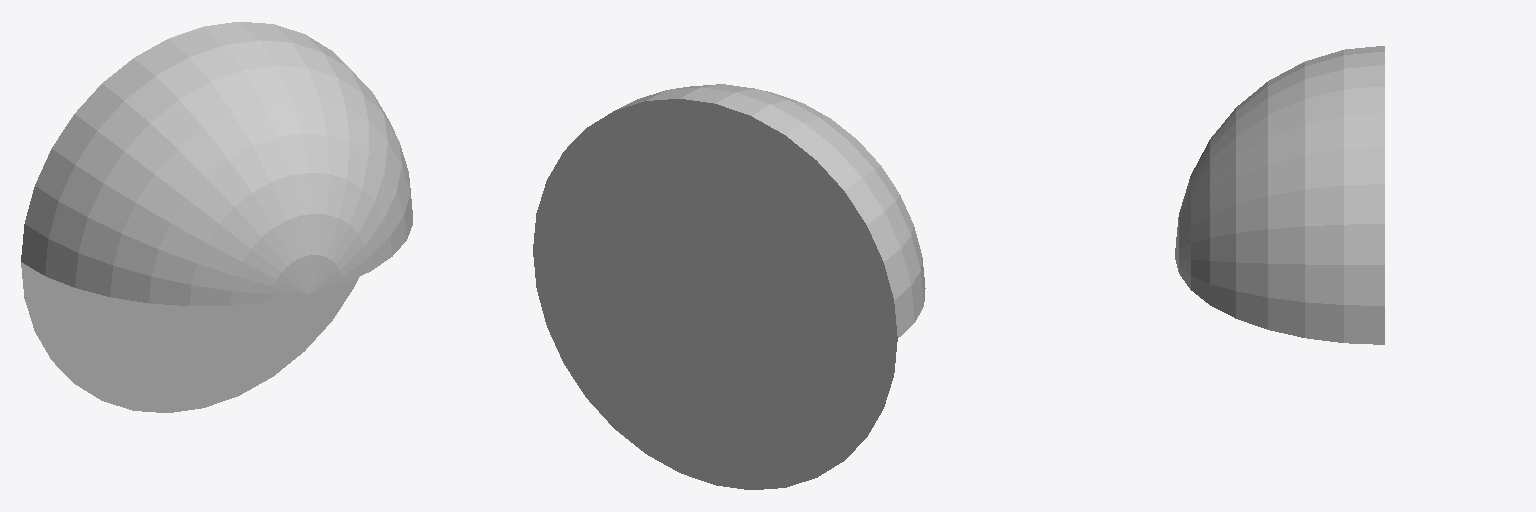
The model's file is Greenate Left Shoe.obj.
The picture shows the model from 3 angles: view 1: azimuth 30°, elevation 25°; view 2: azimuth 150°, elevation 25°; view 3: azimuth 270°, elevation 25°; orthographic projection.
Visible parts, largest first — view 1: Greenate_Character; view 2: Greenate_Character; view 3: Greenate_Character.
Part boxes in pixels (x1,y1,x2,y2): Greenate_Character: (21, 22, 412, 412); Greenate_Character: (533, 84, 925, 489); Greenate_Character: (1175, 46, 1384, 344).
Size of the model in its own units: 1 by 1 by 0.5.